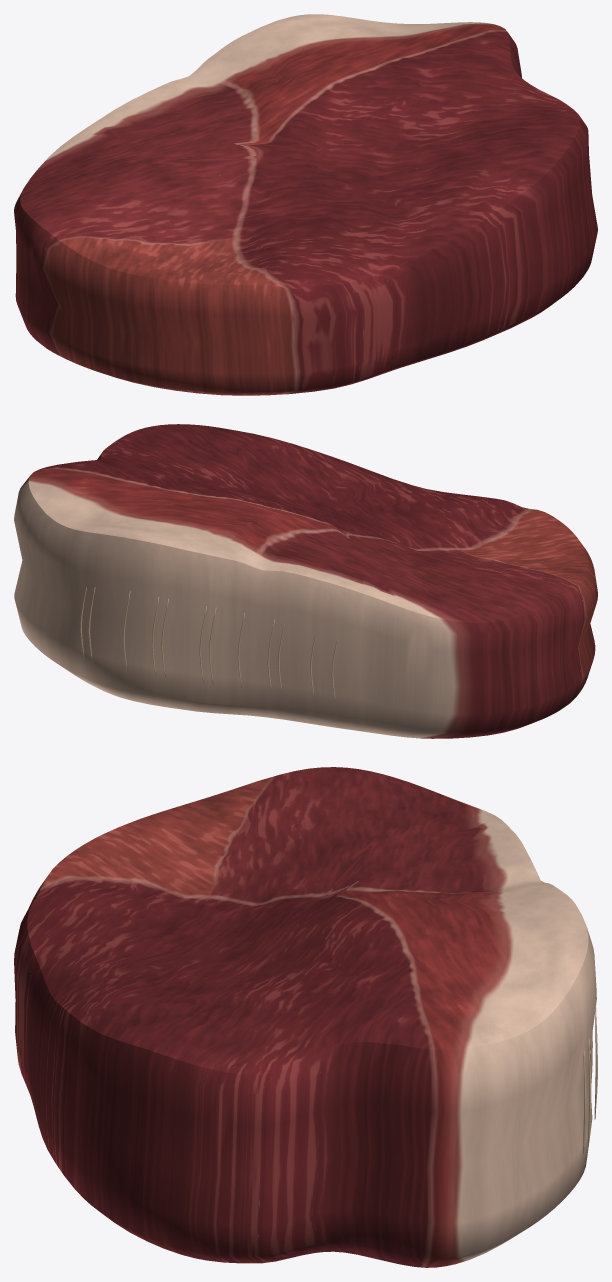
File: boar_raw.glb
3 views of the same model, one above another, from view 1: azimuth 30°, elevation 25°; view 2: azimuth 150°, elevation 25°; view 3: azimuth 270°, elevation 25° (orthographic). The views are drawn at different scales.
Parts seen in each view (by area): view 1: boar_raw; view 2: boar_raw; view 3: boar_raw.
Part boxes in pixels (x1,y1,x2,y2): boar_raw: [14, 14, 597, 395]; boar_raw: [14, 424, 597, 738]; boar_raw: [14, 767, 597, 1267].
Size of the model in its own units: 0.2378 by 0.0768 by 0.169.
2 materials, 1 textured.
